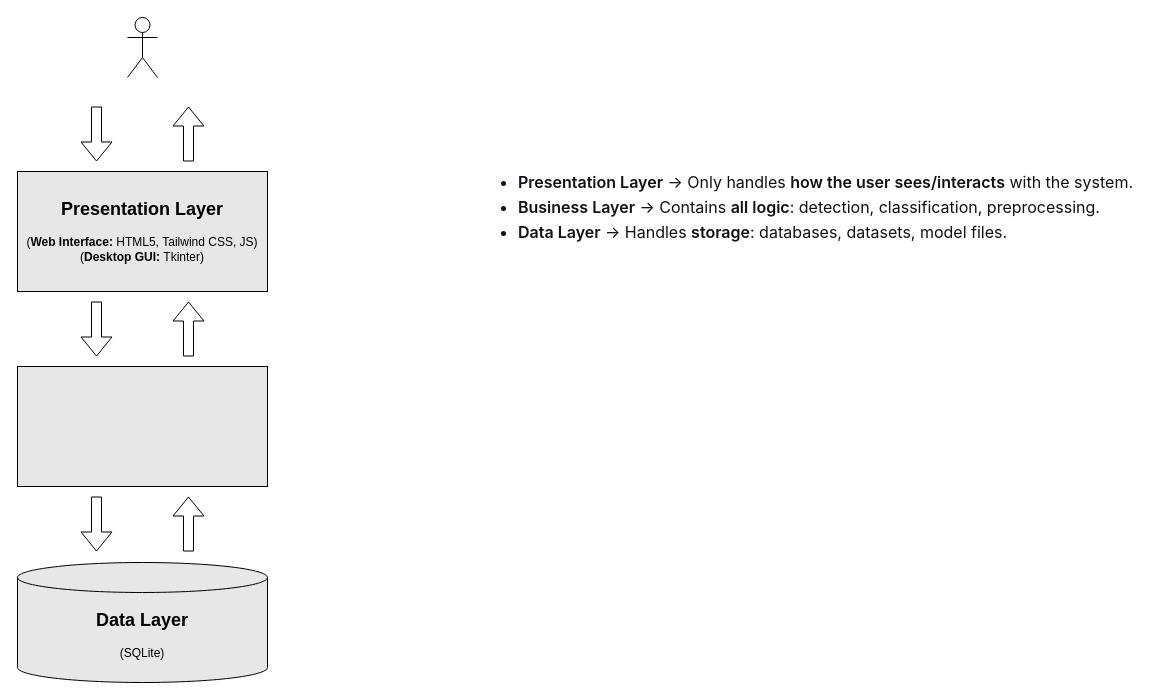
Some shapes in this 1155 by 700 pixel diagram are drawn without their labels. Each missing label, with the centre of its shape:
"Business Layer (Flask, OpenCV, TensorFlow / Keras)" goes at (x=142, y=426).
"User/Admin" goes at (x=142, y=47).
